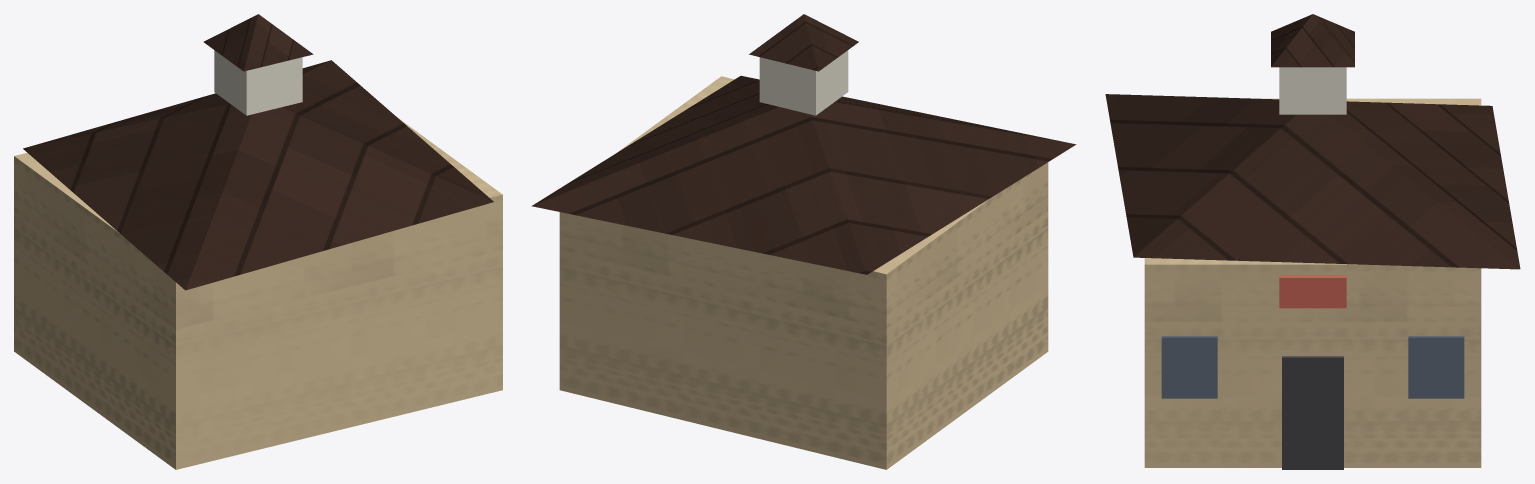
The model's file is sheriff.glb.
3 renders of one model, left to right at view 1: azimuth 30°, elevation 25°; view 2: azimuth 150°, elevation 25°; view 3: azimuth 270°, elevation 25°, orthographic. The views are drawn at different scales.
Parts seen in each view (by area): view 1: body.001, roof.001, cupola, cap; view 2: body.001, roof.001, cupola, cap; view 3: roof.001, body.001, door.001, cap, win.002, win.003, cupola, badge.
Part boxes in pixels (bbox=[...]): body.001: bbox=[14, 117, 502, 469]; roof.001: bbox=[23, 60, 493, 290]; cupola: bbox=[214, 50, 302, 115]; cap: bbox=[203, 14, 313, 71]; body.001: bbox=[559, 76, 1048, 469]; roof.001: bbox=[531, 75, 1076, 274]; cupola: bbox=[759, 50, 848, 115]; cap: bbox=[749, 14, 858, 71]; roof.001: bbox=[1105, 94, 1520, 269]; body.001: bbox=[1144, 98, 1481, 467]; door.001: bbox=[1282, 356, 1343, 469]; cap: bbox=[1271, 14, 1354, 67]; win.002: bbox=[1161, 336, 1217, 398]; win.003: bbox=[1408, 336, 1464, 398]; cupola: bbox=[1279, 67, 1346, 114]; badge: bbox=[1279, 275, 1346, 308].
Bounding box in the file's own units: 7.4 × 7.3 × 7.4.
Materials: 7 (3 with a texture image).
